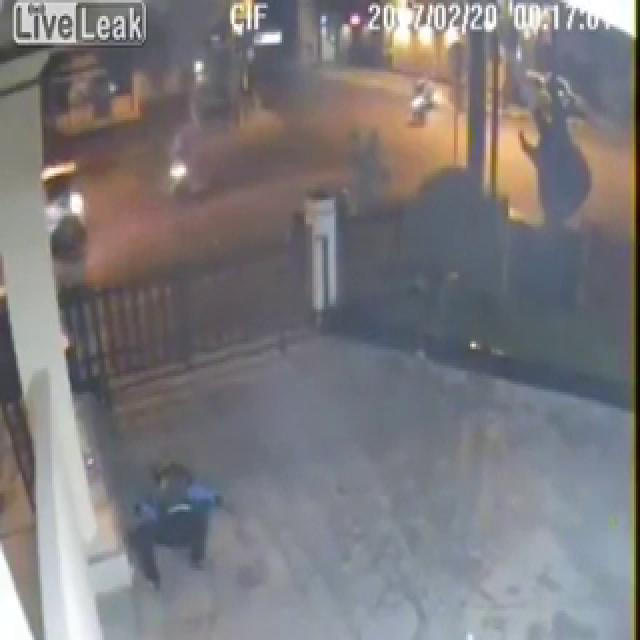road accidents: (293, 56, 635, 424)
